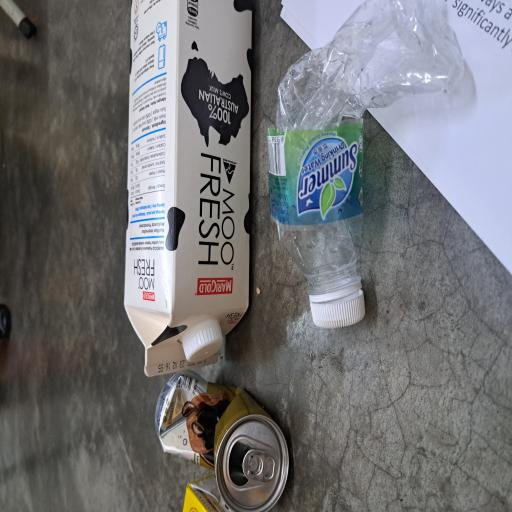can: (0, 203, 103, 384)
drink carton: (100, 160, 384, 340), (0, 238, 20, 304)
paper: (181, 371, 384, 512)
plastic bottle: (140, 365, 384, 512)
plastic bottle cap: (140, 408, 176, 488)
pop tab: (19, 321, 48, 372)
